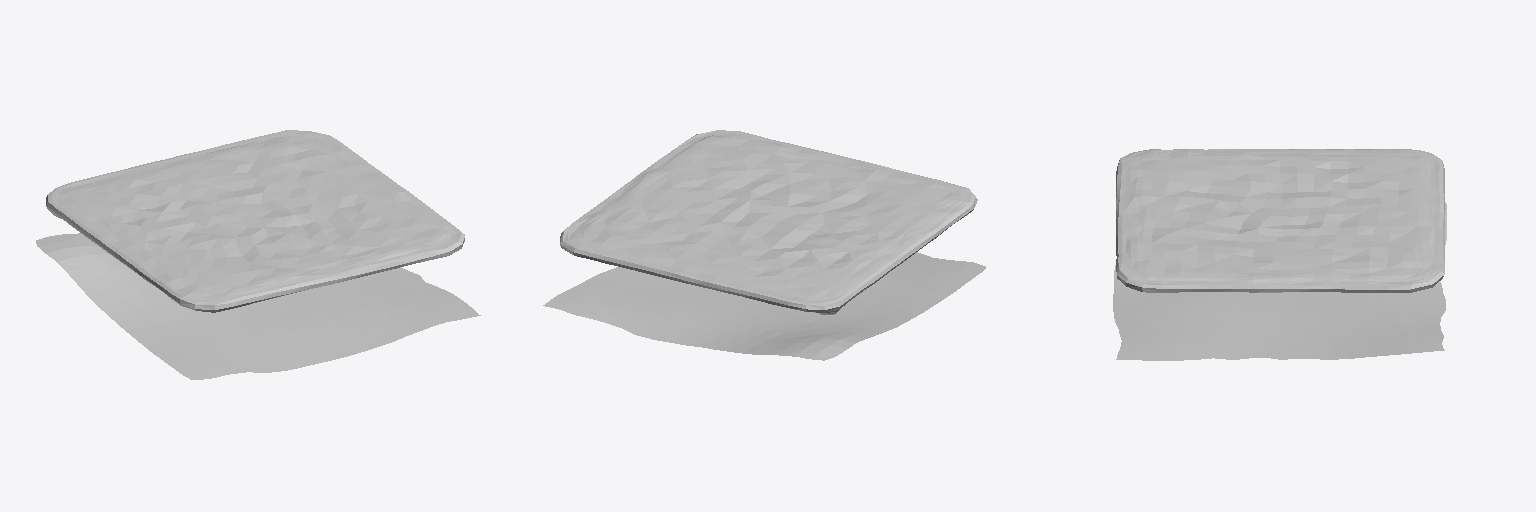
Rendered from floor_cobblestone_low.obj.
The picture shows the model from 3 angles: view 1: azimuth 30°, elevation 25°; view 2: azimuth 150°, elevation 25°; view 3: azimuth 270°, elevation 25°; orthographic projection.
Parts seen in each view (by area): view 1: mesh; view 2: mesh; view 3: mesh.
Boxes of the visible parts, <box> form: mesh: <box>36,130,480,379</box>; mesh: <box>543,130,985,360</box>; mesh: <box>1113,149,1446,360</box>.
Bounding box in the file's own units: 0.9975 × 0.2758 × 0.9951.